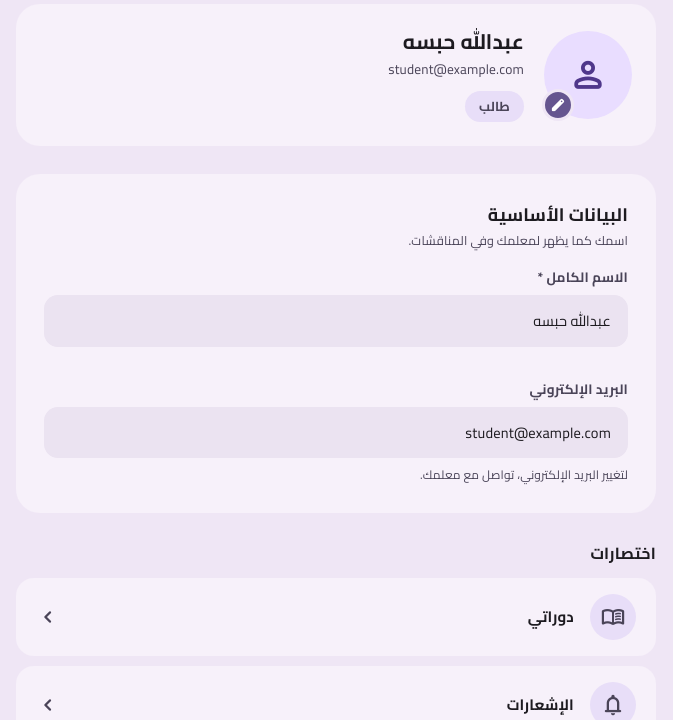
StudentProfilePage › saves the full name via PATCH /users/me/profile and syncs it into AuthContext
Replace the text in the field labelled "الاسم الكامل *" with "اسم جديد". click: (336, 321)
box: [44,296,628,347]
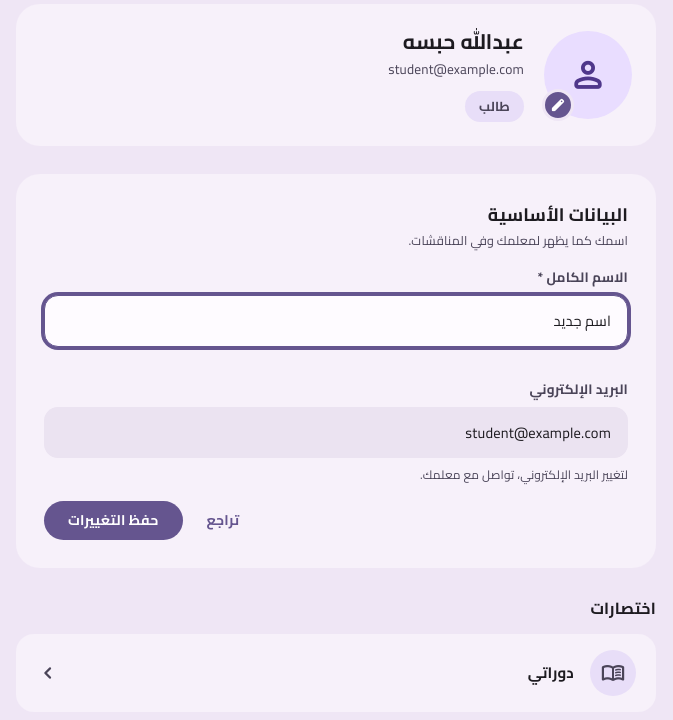
Click the button "حفظ التغييرات". click: (113, 520)
box: [44,501,182,540]
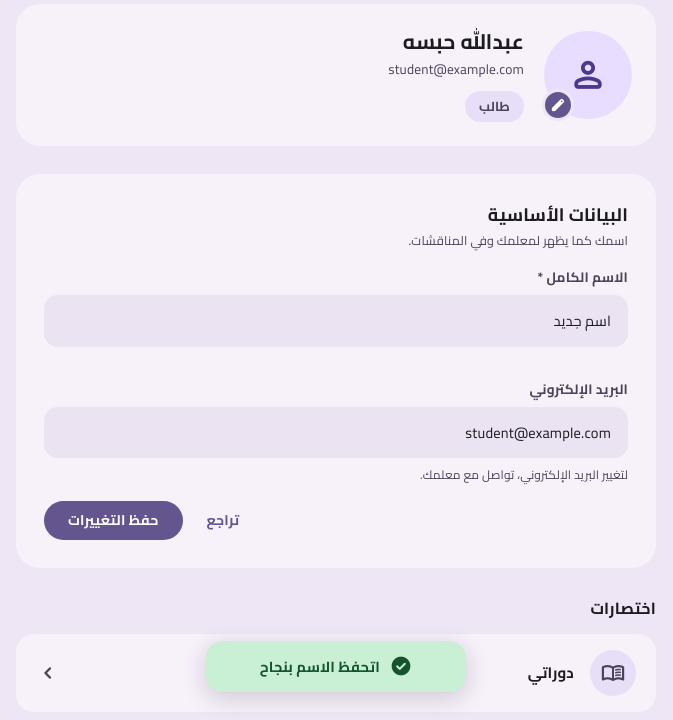
Expected: the text "اتحفظ الاسم بنجاح" is shown, [260,655,380,678]
